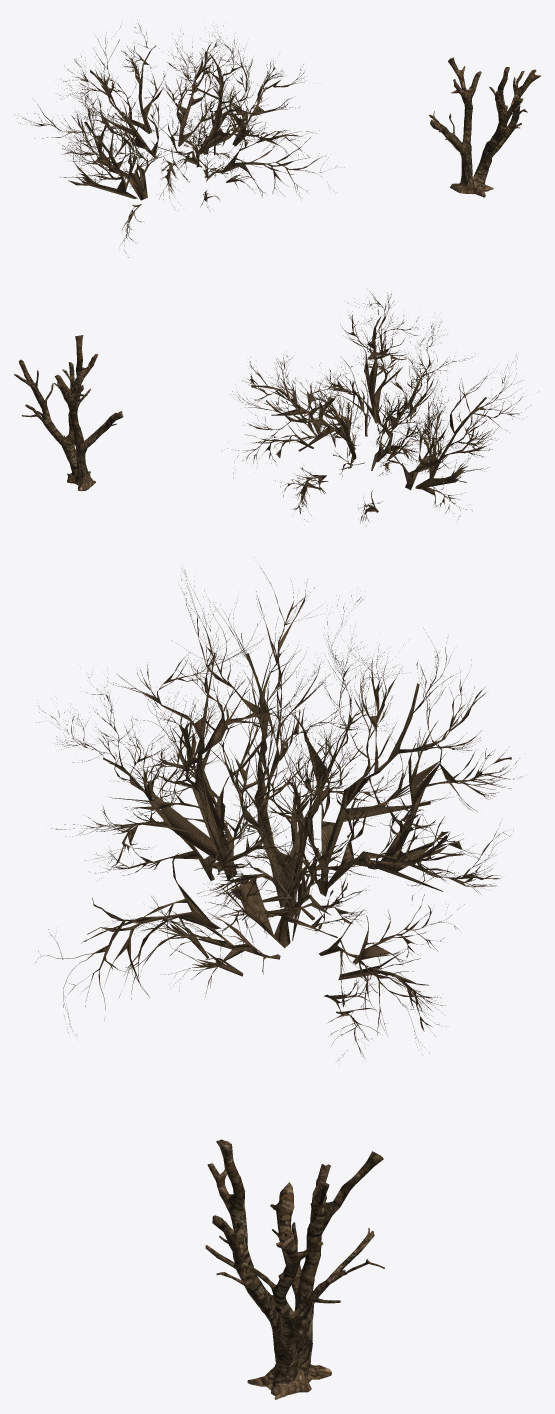
File: field_broadleaf_b_lod1.glb
3 renders of one model, top to bottom at view 1: azimuth 30°, elevation 25°; view 2: azimuth 150°, elevation 25°; view 3: azimuth 270°, elevation 25°, orthographic. The views are drawn at different scales.
Parts seen in each view (by area): view 1: bark_lod1; view 2: bark_lod1; view 3: bark_lod1.
Part boxes in pixels (x1=…): bark_lod1: x1=18, y1=23, x2=540, y2=257; bark_lod1: x1=14, y1=291, x2=531, y2=526; bark_lod1: x1=35, y1=568, x2=523, y2=1399.
Size of the model in its own units: 43.02 by 19.67 by 18.03.
Materials: 2 (2 with a texture image).
